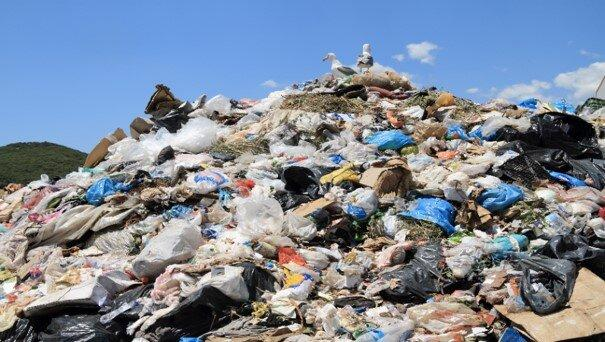garbage: (0, 60, 605, 342)
